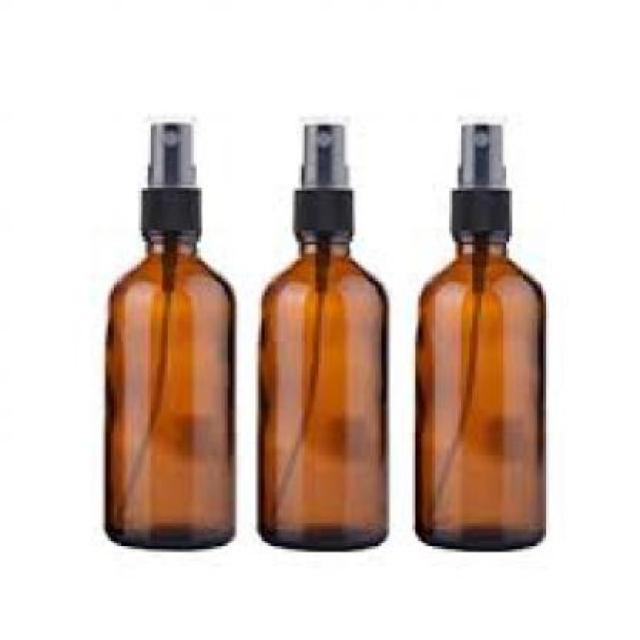kaca: (257, 237, 385, 552), (412, 242, 543, 549), (103, 234, 231, 546)
